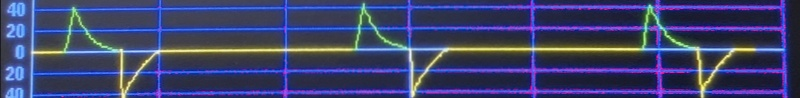normal_flow: (30, 0, 758, 98)
